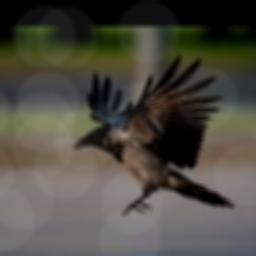Crow: (74, 53, 237, 214)
